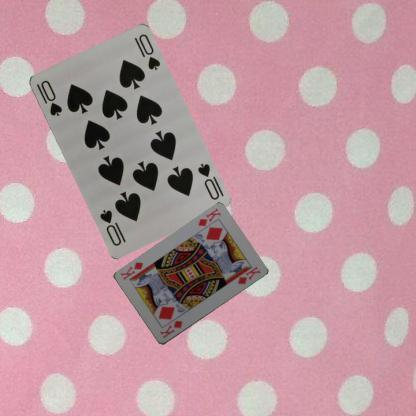10s: (194, 160, 221, 202), (38, 78, 64, 118)
Kd: (196, 206, 223, 233), (158, 318, 184, 340)
